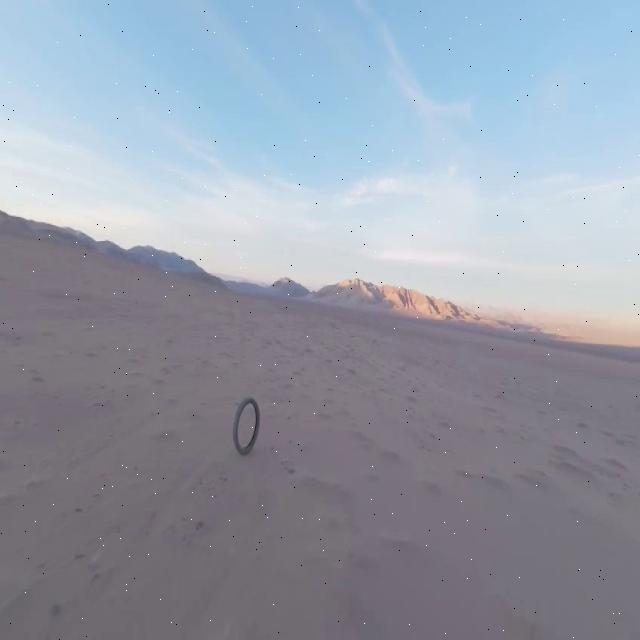Tire: (234, 396, 260, 454)
